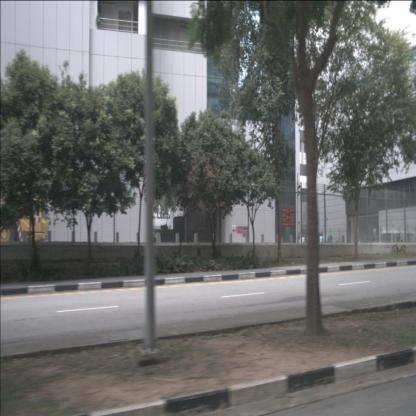vehicle-bicycle: (392, 235, 406, 256)
vehicle-truck: (0, 190, 50, 247)
